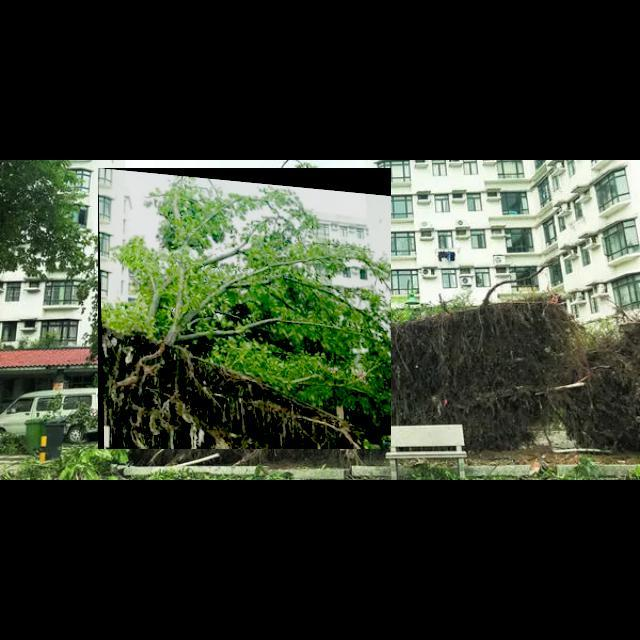fallen_tree: (98, 168, 392, 450)
